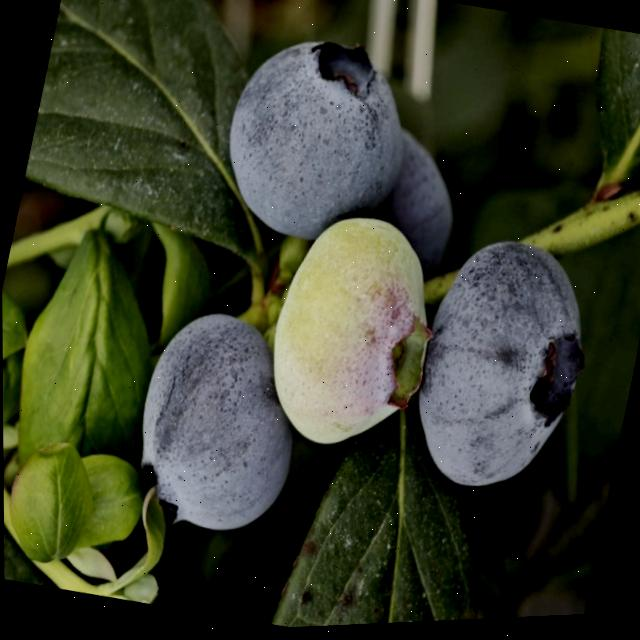RipeBlueBerry: (401, 229, 593, 508), (204, 15, 421, 261), (121, 303, 313, 550)
Semi-RipeBlueBerry: (254, 201, 451, 460)
